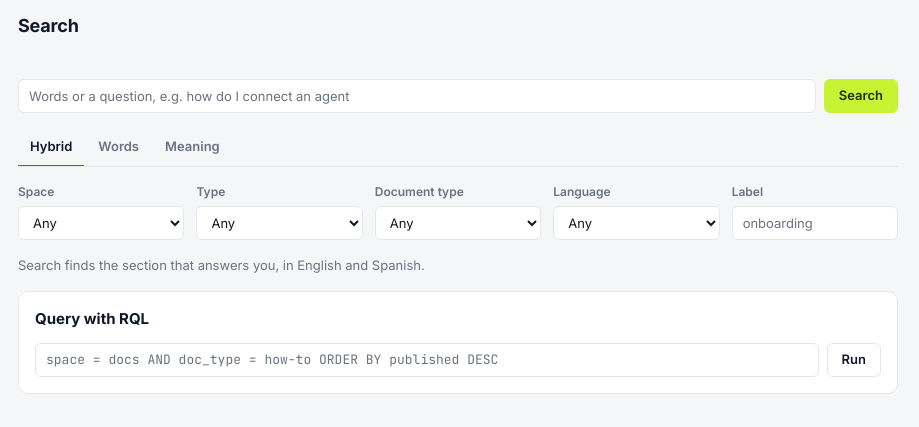
Scenario: FolioSearchView › explains when semantic search has no AI provider
Step 1. Type "x" into the search field → [417, 96], box [18,79,816,113]
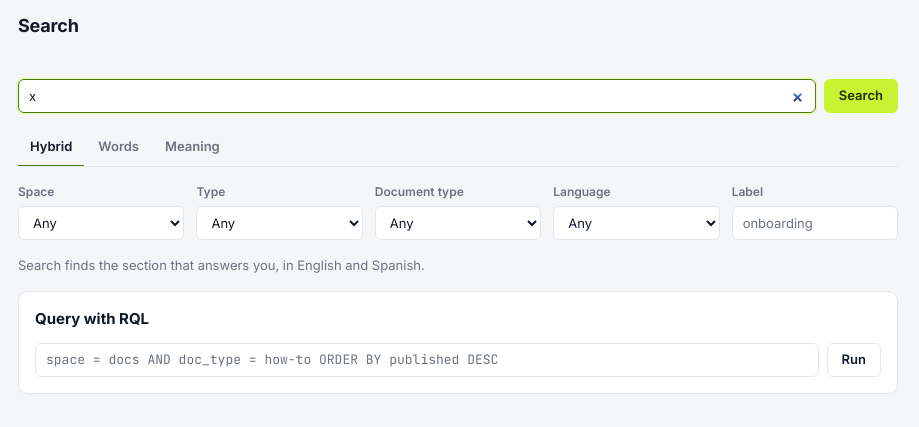
Step 2. Click the button "Search" → [861, 96], box [824,79,898,113]
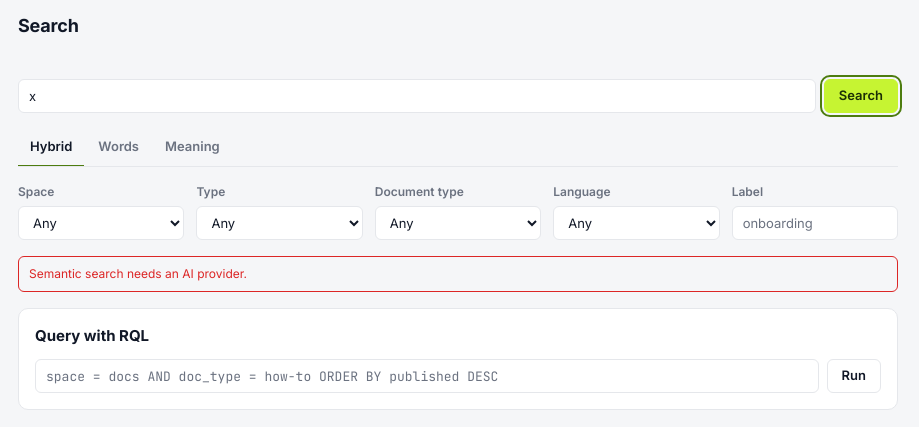
Expected: the text "Semantic search needs an AI provider." is shown, [18,256,898,292]
